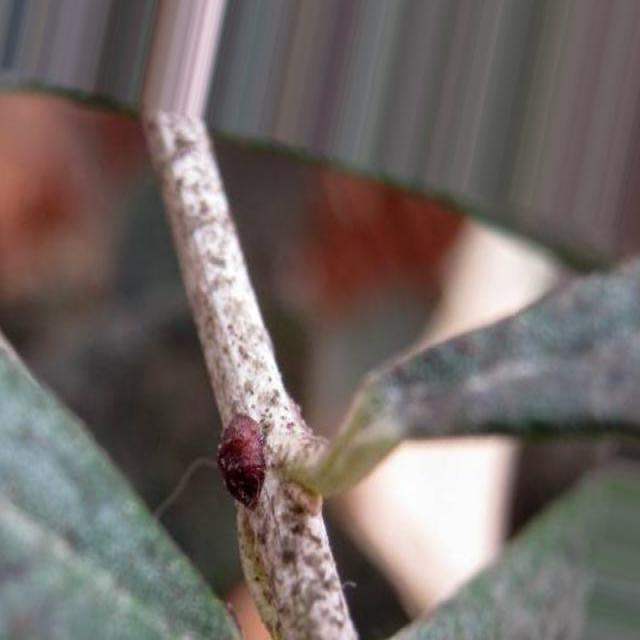BlackScale: (216, 413, 264, 508)
